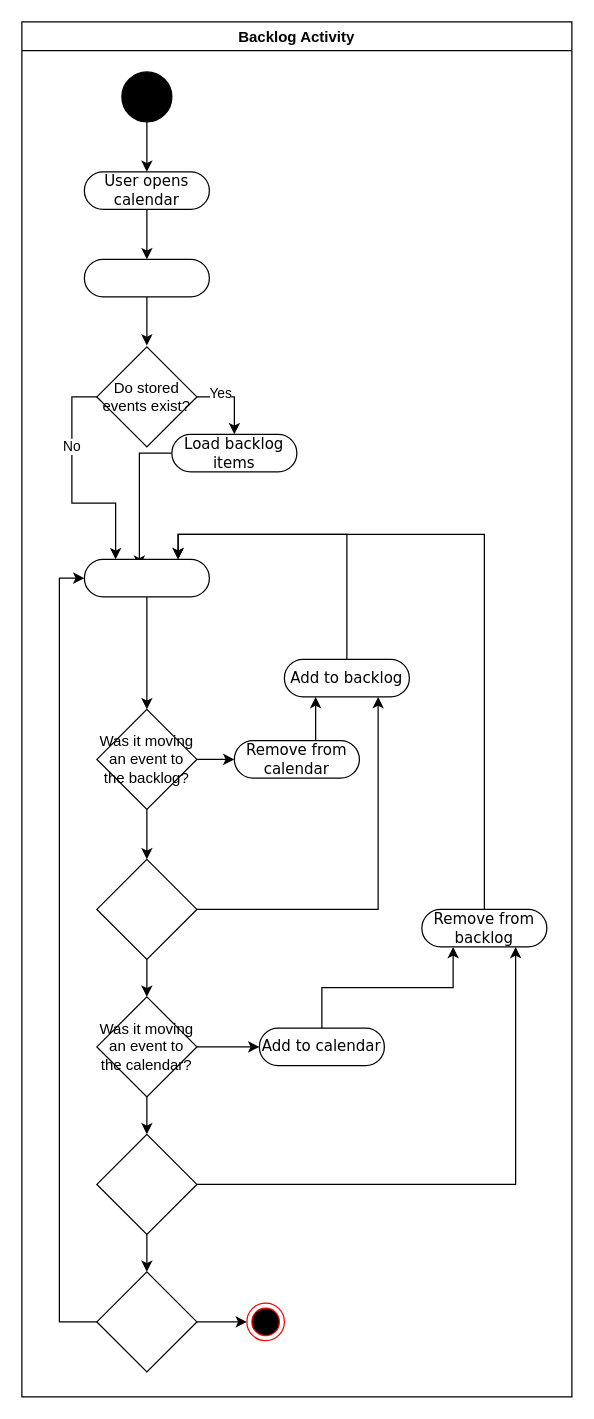
Image size: 594x1419. Some labels were removed from this diagram. Each missing label, with the centre of its shape:
"Initialize backlog" belongs at [146,277].
"User closing the application?" belongs at [146,1321].
"Wait for user action" belongs at [146,577].
"Was it adding a new event to the backlog?" belongs at [146,908].
"Was it removing an event to the backlog?" belongs at [146,1183].
